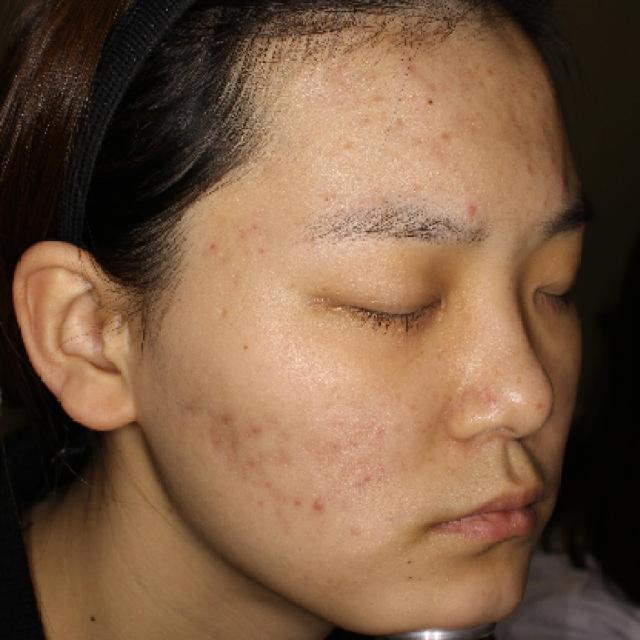Acne: (306, 491, 339, 518), (463, 197, 485, 221)
Blackheads: (415, 85, 443, 114)
